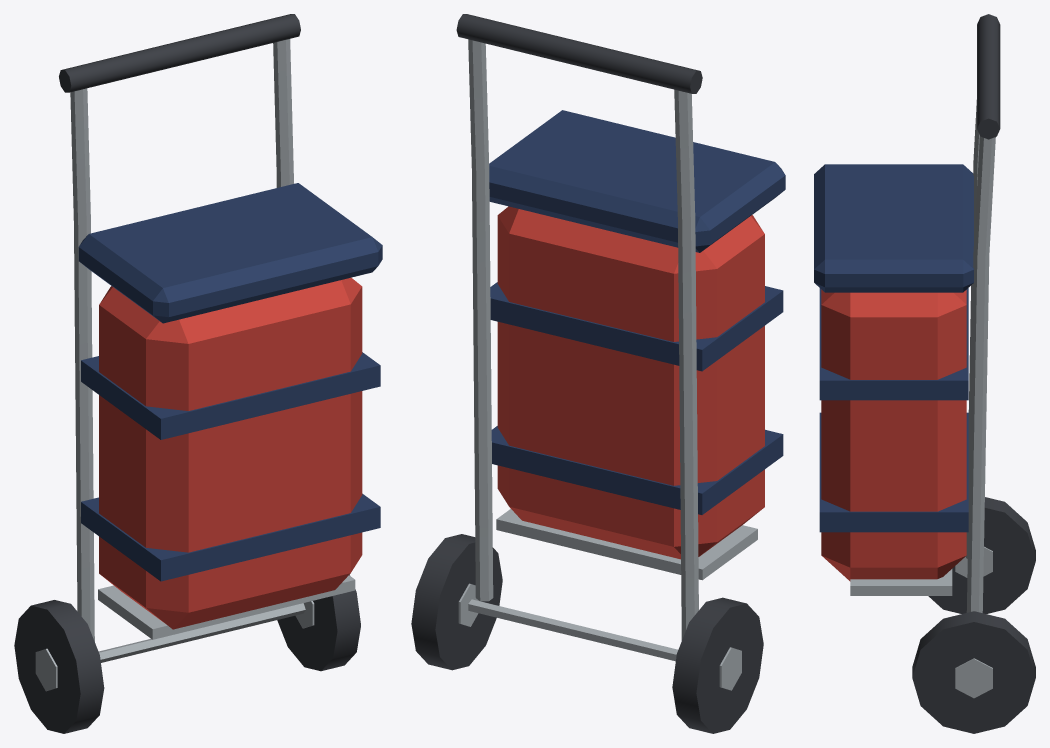
The model's file is shopping_trolley.glb.
3 renders of one model, left to right at view 1: azimuth 30°, elevation 25°; view 2: azimuth 150°, elevation 25°; view 3: azimuth 270°, elevation 25°, orthographic. The views are drawn at different scales.
Visible parts, largest first — view 1: shopping_trolley; view 2: shopping_trolley; view 3: shopping_trolley.
Part boxes in pixels (bbox=[...]): shopping_trolley: bbox=[14, 14, 382, 733]; shopping_trolley: bbox=[411, 14, 785, 733]; shopping_trolley: bbox=[814, 14, 1035, 733].
Bounding box in the file's own units: 0.42 × 0.916 × 0.305.
